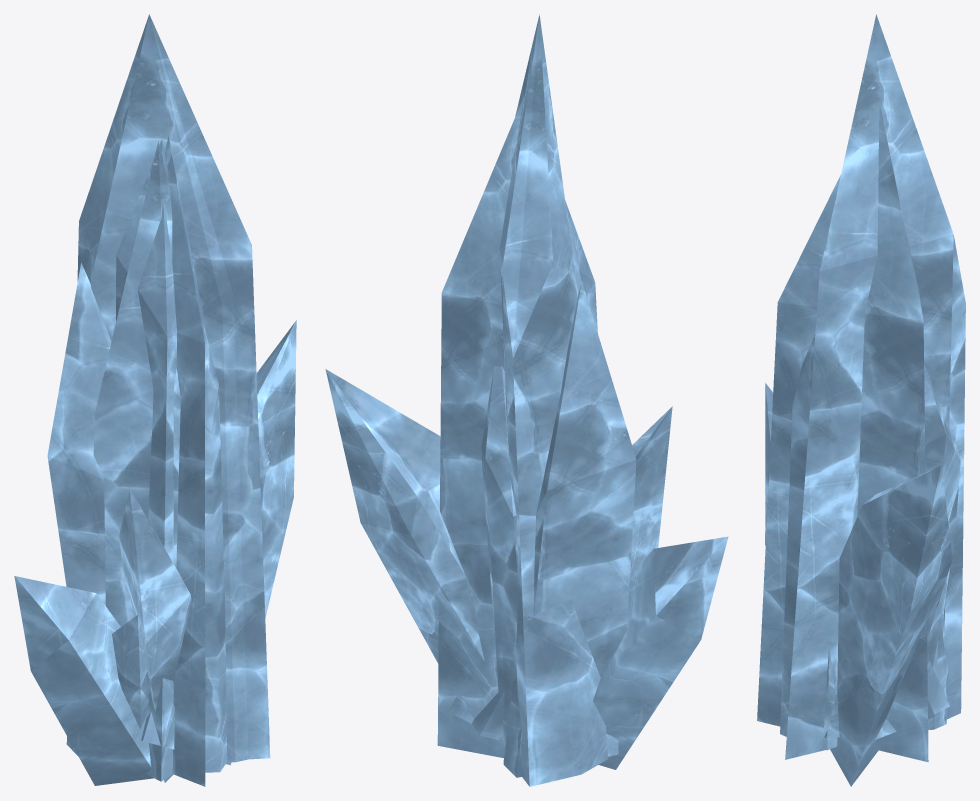
File: ice_shards.glb
3 views of the same model, side by side, from view 1: azimuth 30°, elevation 25°; view 2: azimuth 150°, elevation 25°; view 3: azimuth 270°, elevation 25° (orthographic). The views are drawn at different scales.
Visible parts, largest first — view 1: ice_cluster_a, ice_shard_06, ice_shard_01, ice_shard_02; view 2: ice_cluster_a, ice_shard_06, ice_shard_01, ice_shard_02, ice_shard_08; view 3: ice_shard_06, ice_shard_01, ice_cluster_a, ice_shard_08, ice_shard_02.
Boxes of the visible parts, left/top/right/bottom form: ice_cluster_a: left=14, top=141, right=296, bottom=785; ice_shard_06: left=66, top=14, right=270, bottom=762; ice_shard_01: left=116, top=136, right=205, bottom=786; ice_shard_02: left=47, top=262, right=111, bottom=605; ice_cluster_a: left=325, top=209, right=728, bottom=769; ice_shard_06: left=499, top=14, right=607, bottom=786; ice_shard_01: left=437, top=96, right=597, bottom=758; ice_shard_02: left=503, top=281, right=636, bottom=777; ice_shard_08: left=481, top=366, right=518, bottom=741; ice_shard_06: left=785, top=14, right=965, bottom=759; ice_shard_01: left=757, top=102, right=928, bottom=762; ice_cluster_a: left=765, top=334, right=952, bottom=786; ice_shard_08: left=887, top=363, right=960, bottom=667; ice_shard_02: left=824, top=629, right=948, bottom=738.
Size of the model in its own units: 0.1805 by 0.382 by 0.0977.
1 material, 1 textured.
